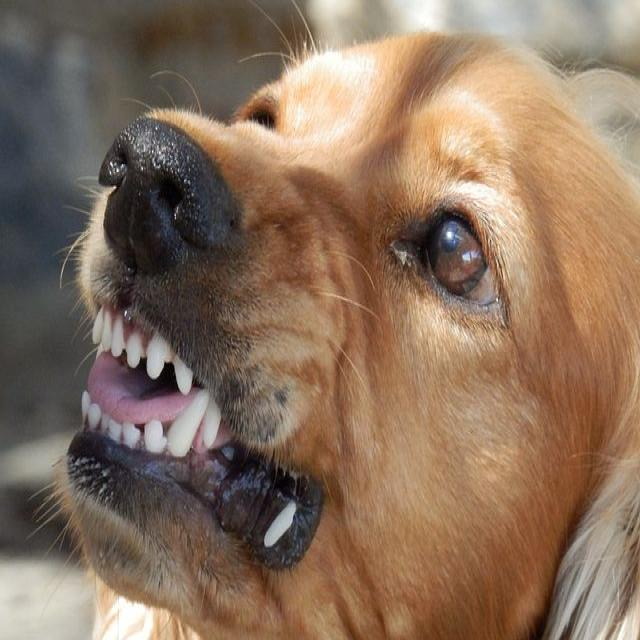angry: (67, 1, 640, 640)
